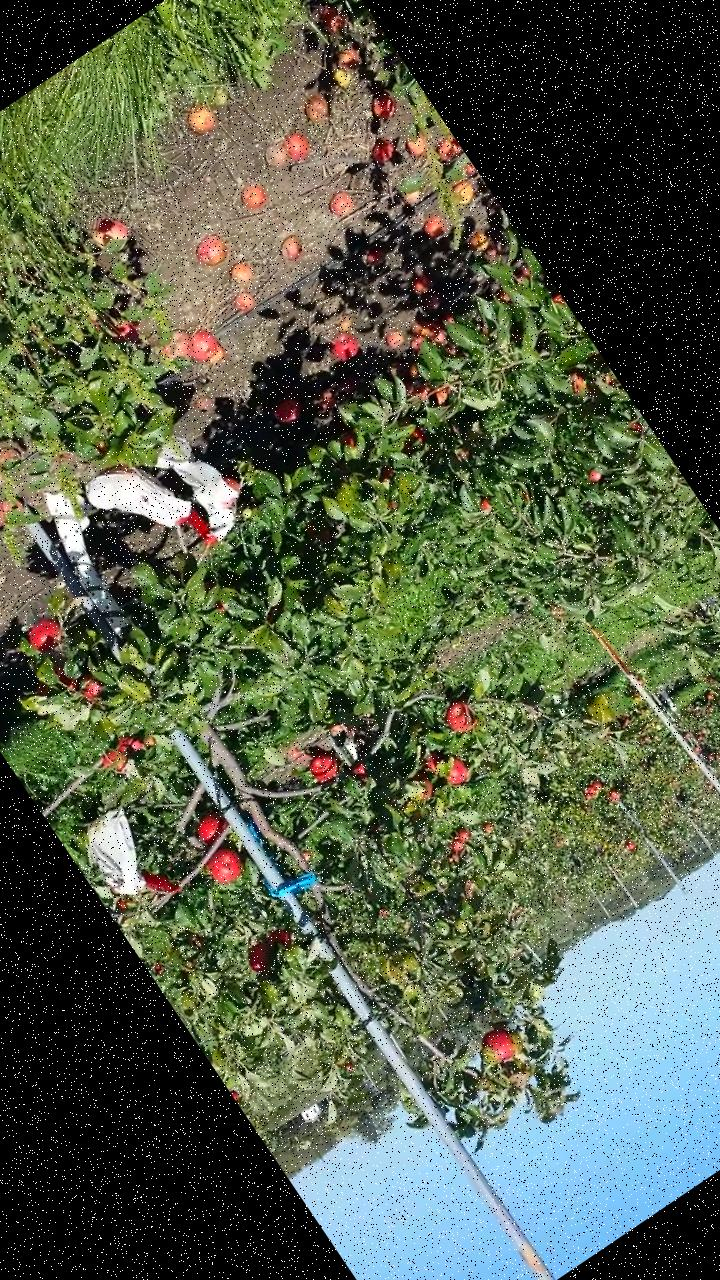Apple: (33, 659, 84, 707), (22, 610, 71, 659), (438, 694, 484, 740), (203, 844, 248, 889), (476, 1026, 520, 1070), (139, 859, 178, 901), (304, 746, 344, 786), (192, 808, 232, 847), (241, 941, 278, 980), (98, 742, 136, 779), (559, 364, 595, 400), (439, 754, 474, 790), (394, 425, 430, 459), (262, 923, 296, 957), (114, 729, 148, 761), (408, 773, 439, 804), (75, 674, 106, 704), (420, 748, 448, 778), (221, 470, 247, 497), (337, 428, 361, 454), (596, 368, 620, 393), (432, 385, 456, 408), (584, 463, 605, 485), (581, 781, 604, 801), (141, 733, 159, 751), (550, 294, 568, 312), (352, 761, 369, 779), (379, 466, 396, 482), (606, 790, 622, 806), (114, 899, 130, 914), (477, 498, 492, 514), (630, 422, 644, 438), (693, 730, 706, 743), (216, 602, 228, 615), (627, 840, 637, 851), (706, 752, 716, 762), (692, 744, 702, 754), (704, 693, 714, 703), (706, 706, 716, 714)
